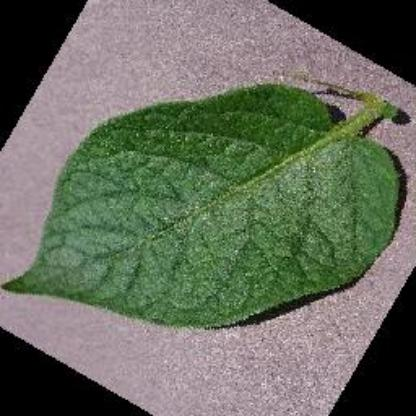Healthy-plant: (3, 66, 408, 334)
